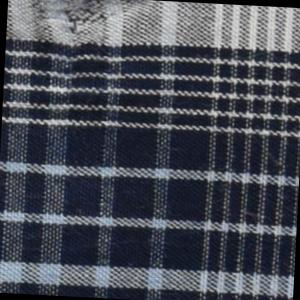Damage: (27, 1, 158, 71)
